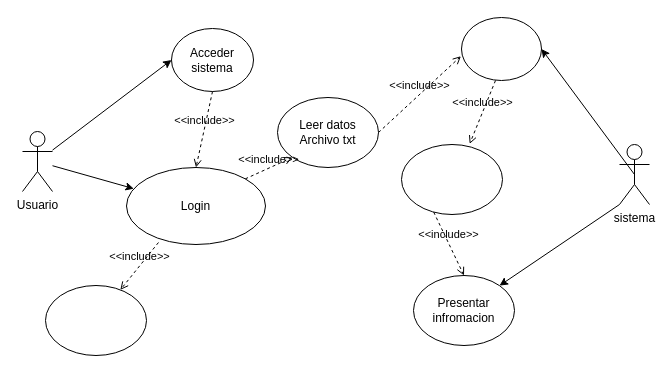
The diagram is 672 pixels wide and 373 high, and some of its shapes have lost their labels. The box of each missing label's shape, as (x1, y1, x2, y2) in pixels:
ingreso DATA BASE: (460, 16, 542, 80)
Leer datos DATABASE Guardar: (400, 144, 502, 214)
Validacion: (44, 284, 146, 356)
